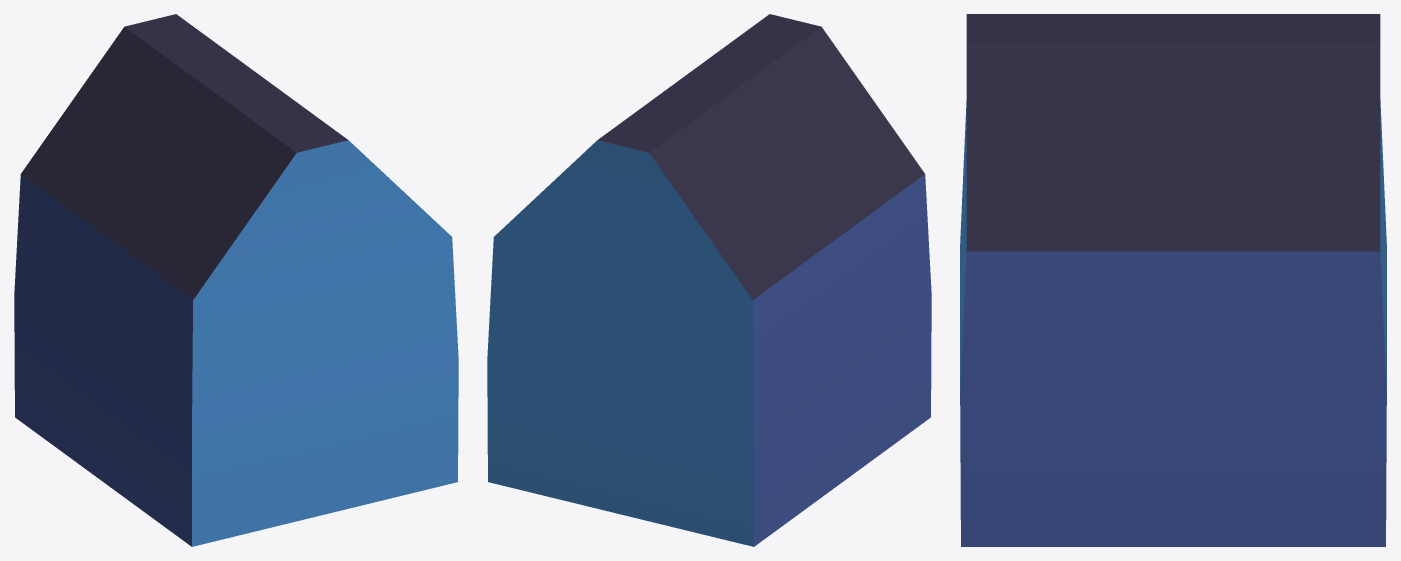
Rendered from House03_Blue.glb.
3 views of the same model, side by side, from view 1: azimuth 30°, elevation 25°; view 2: azimuth 150°, elevation 25°; view 3: azimuth 270°, elevation 25° (orthographic). The views are drawn at different scales.
Parts seen in each view (by area): view 1: House03_Blue; view 2: House03_Blue; view 3: House03_Blue.
Part boxes in pixels (x1,y1,x2,y2): House03_Blue: [14, 14, 458, 546]; House03_Blue: [487, 14, 931, 546]; House03_Blue: [960, 14, 1386, 546].
Size of the model in its own units: 1.91 by 2.51 by 2.21.
1 material, 1 textured.
